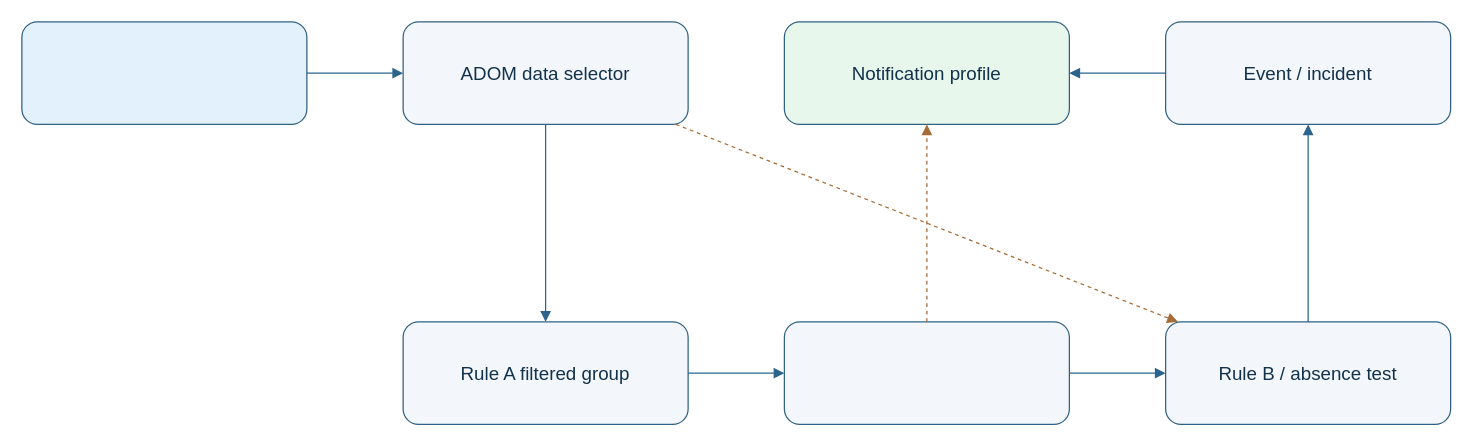
This 1473x446 diagram has some shape labels left out. Each missing label, with the box of its shape:
Analytics logs: (21, 21, 307, 124)
Temporal operator + join key: (783, 321, 1069, 424)
